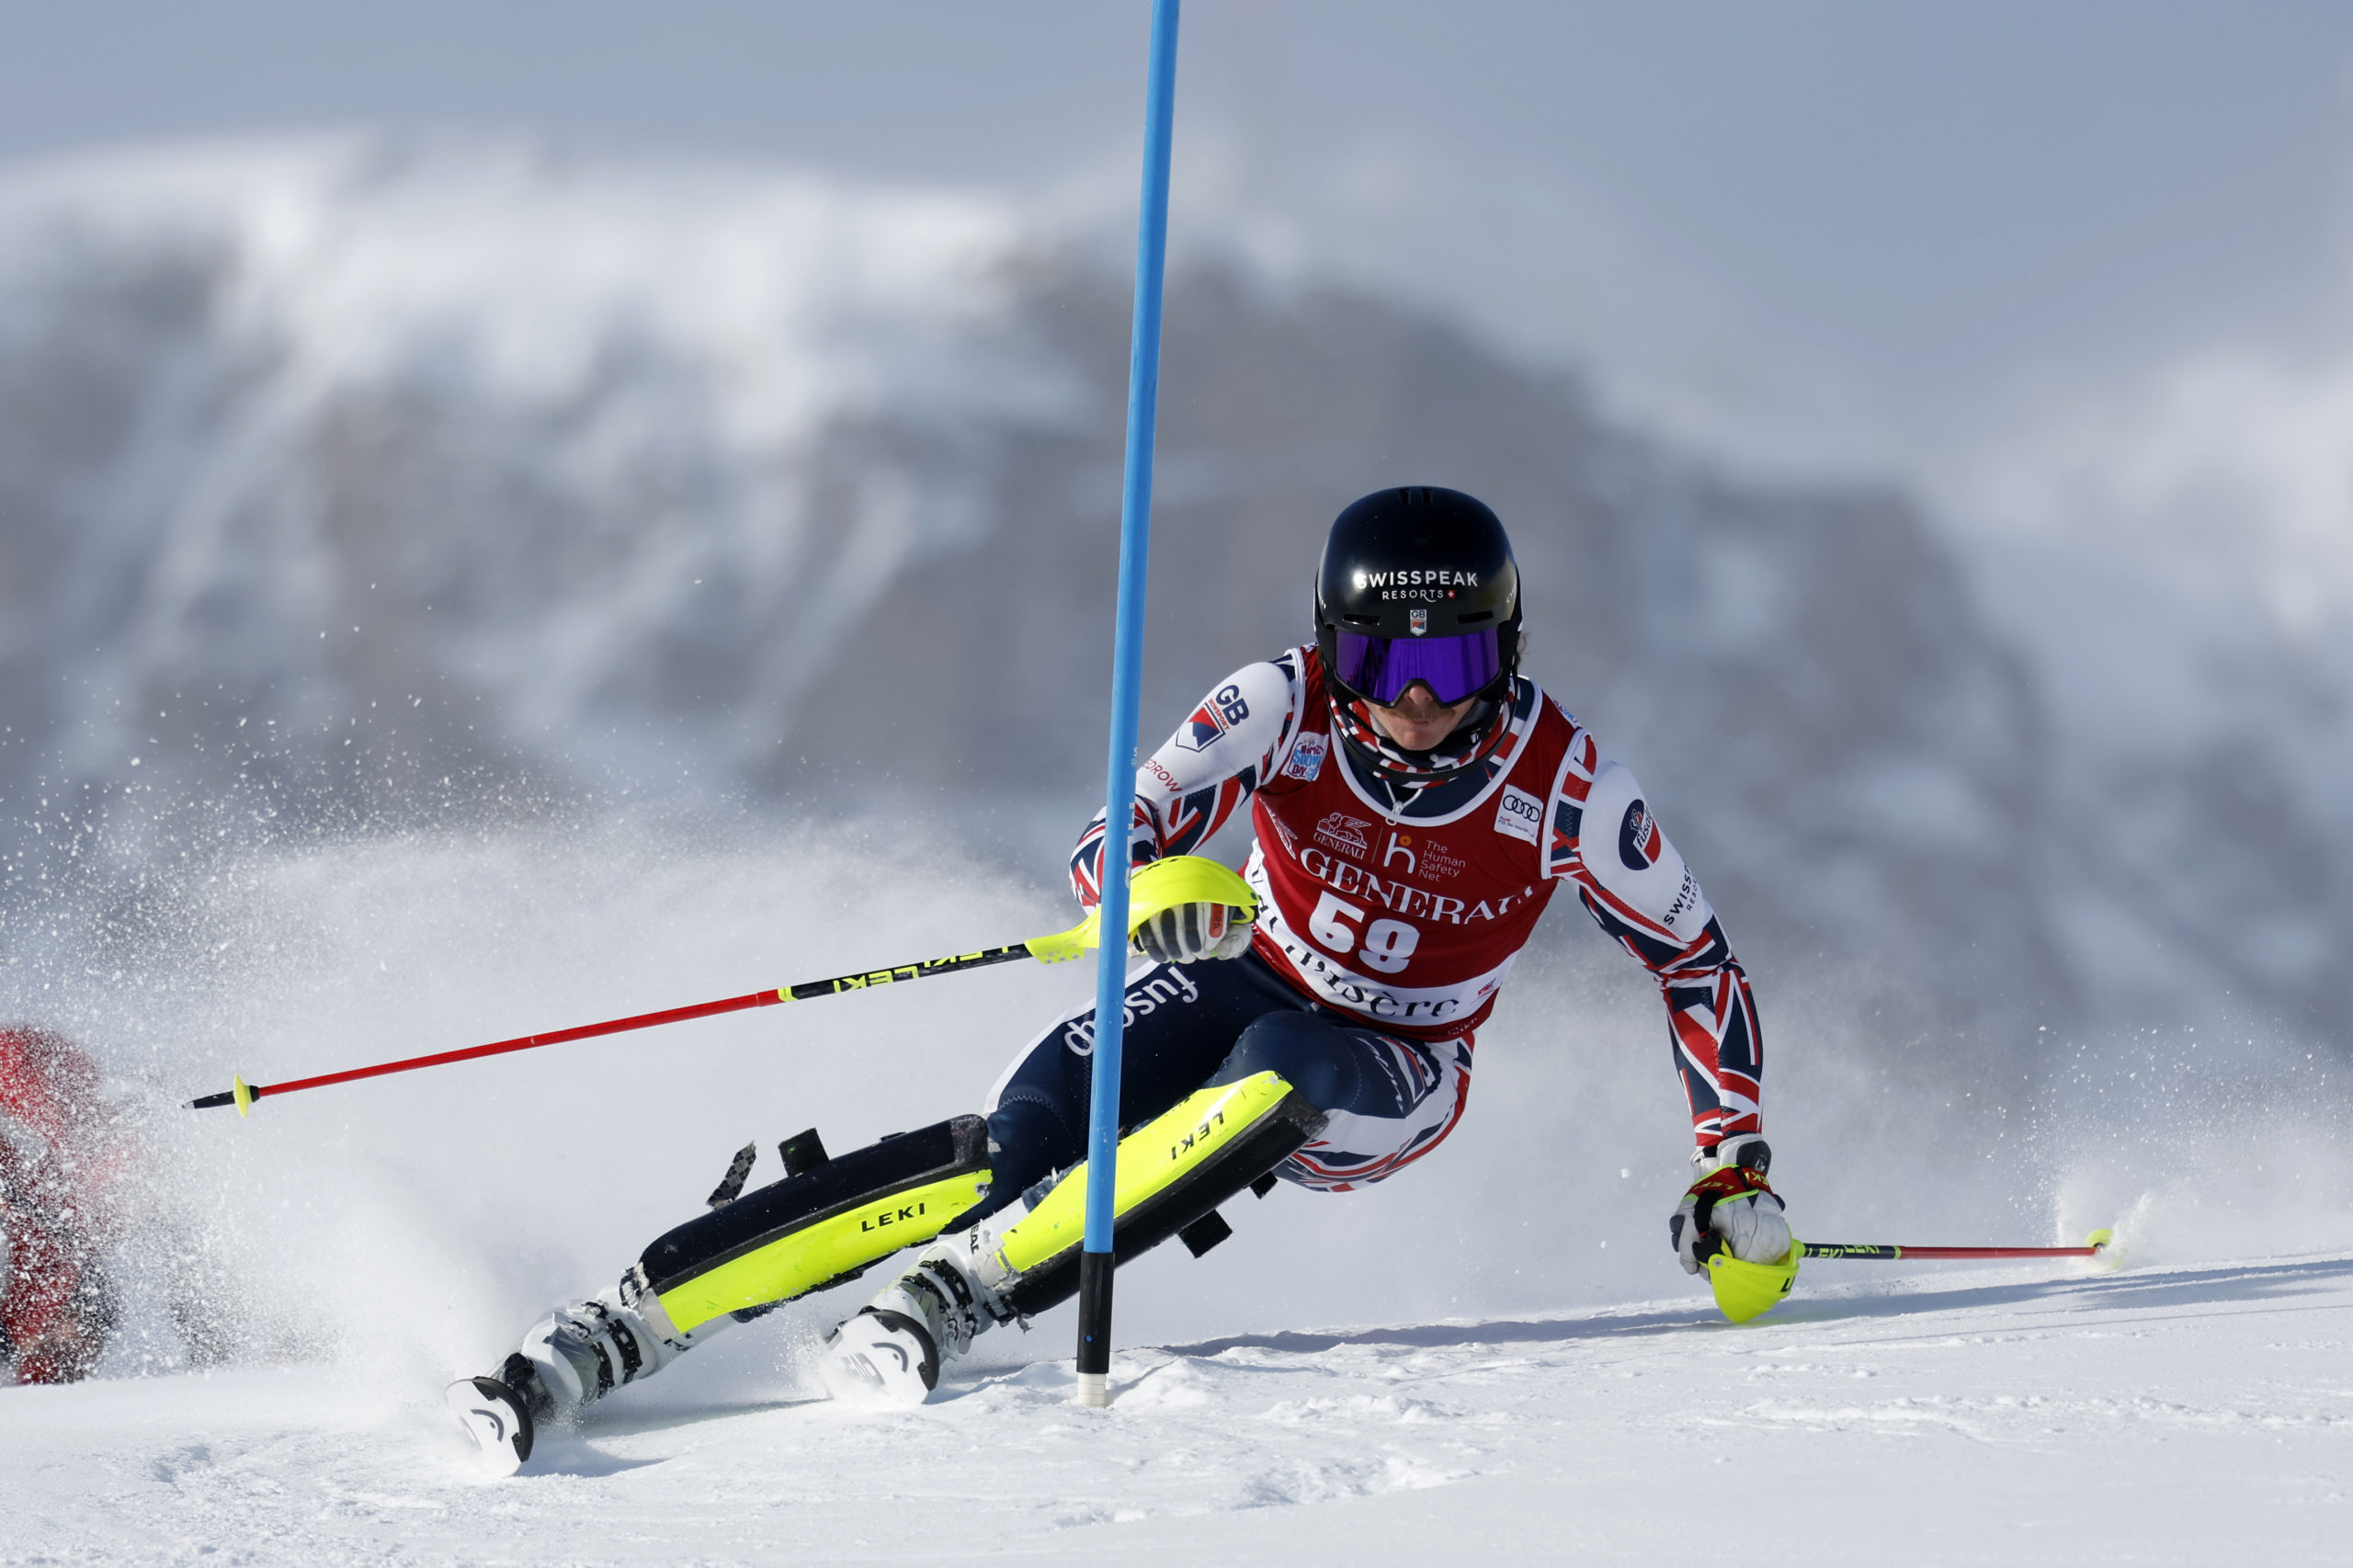skier: (460, 474, 1860, 1465)
